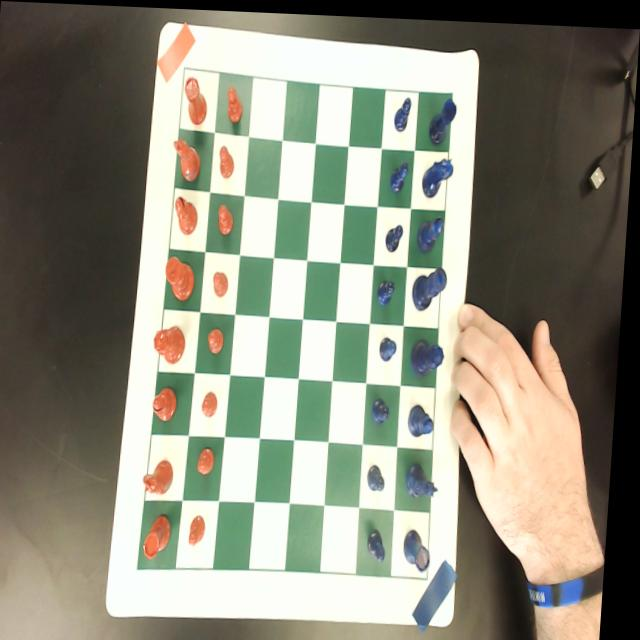B: (411, 397, 441, 433), (419, 211, 447, 248)
K: (414, 261, 450, 307)
N: (422, 151, 456, 194), (411, 455, 445, 496)
P: (393, 90, 413, 130), (372, 524, 394, 559), (391, 155, 412, 190), (372, 458, 392, 490), (375, 391, 396, 421), (387, 219, 406, 250), (382, 330, 401, 359), (378, 275, 399, 301)
Q: (413, 334, 449, 373)
R: (429, 92, 458, 139), (408, 523, 438, 568)
b: (175, 193, 201, 234), (157, 384, 183, 421)
k: (167, 253, 199, 300)
n: (171, 134, 203, 179), (147, 457, 180, 493)
p: (227, 82, 245, 122), (219, 141, 237, 176), (209, 322, 229, 353), (194, 511, 212, 545), (219, 200, 237, 234), (202, 444, 220, 473), (215, 266, 232, 295), (206, 387, 223, 415)
q: (155, 323, 189, 362)
r: (149, 510, 179, 558), (183, 73, 210, 121)
